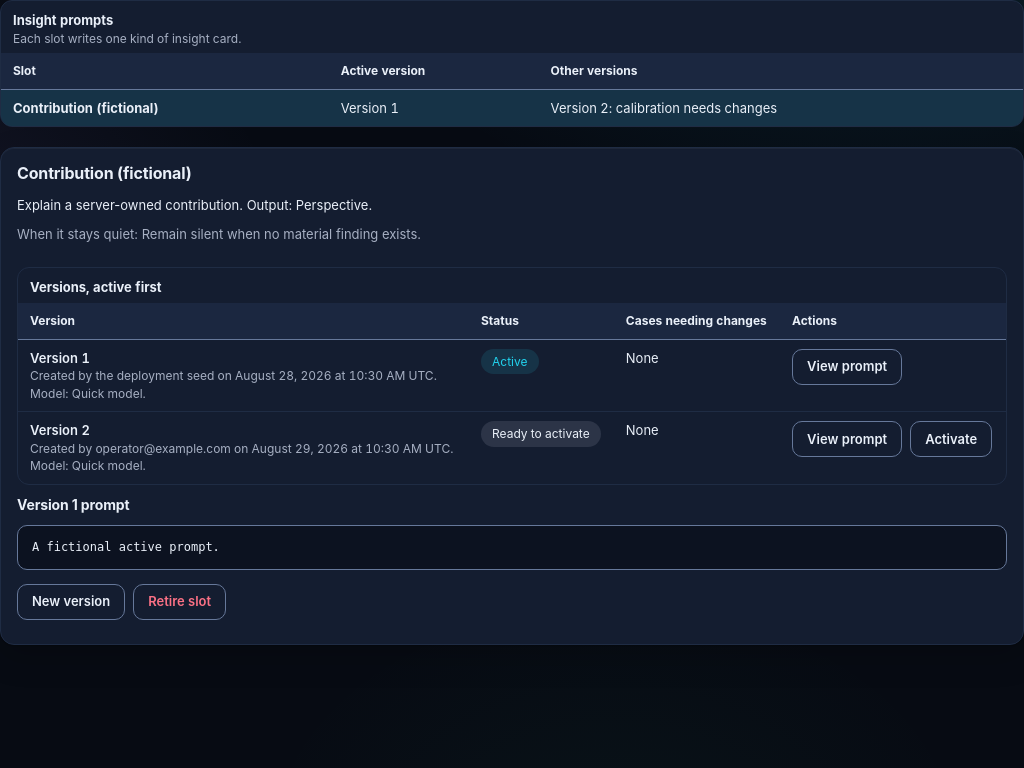
Scenario: renders a plain-language calibration recovery state without exposing the API error token
The image size is (1024, 768).
Expected: the heading "Contribution (fictional)" is shown, [17,162,192,186]
Click the button with aria-label "Activate version 2" at (951, 439), box [910,421,992,457]
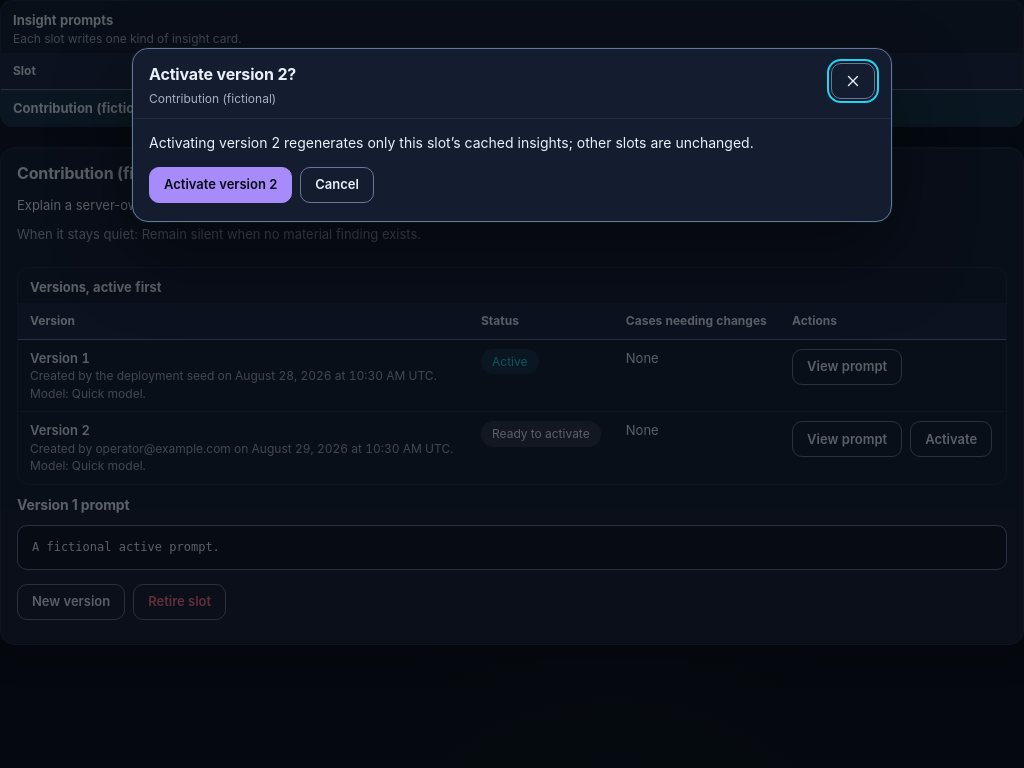
Click the button "Activate version 2" at (221, 185), box [149,167,292,203]
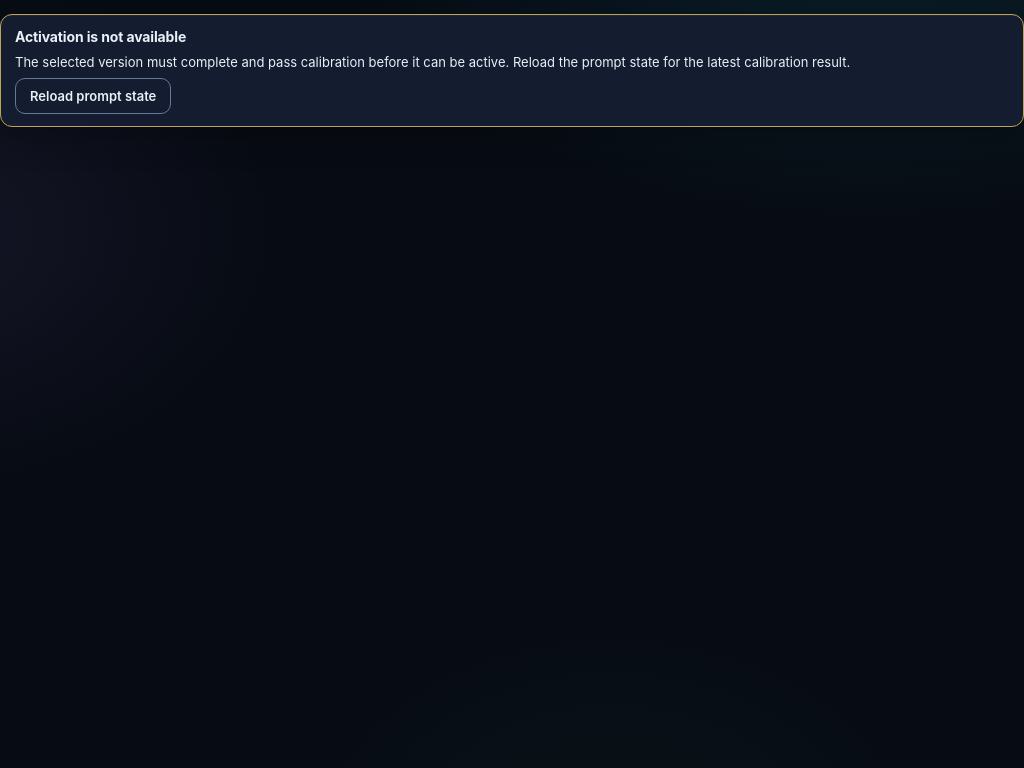
Expected: the heading "Activation is not available" is shown, [15,28,186,45]
Expected: the text "must complete and pass calibration" is shown, [15,54,850,70]
